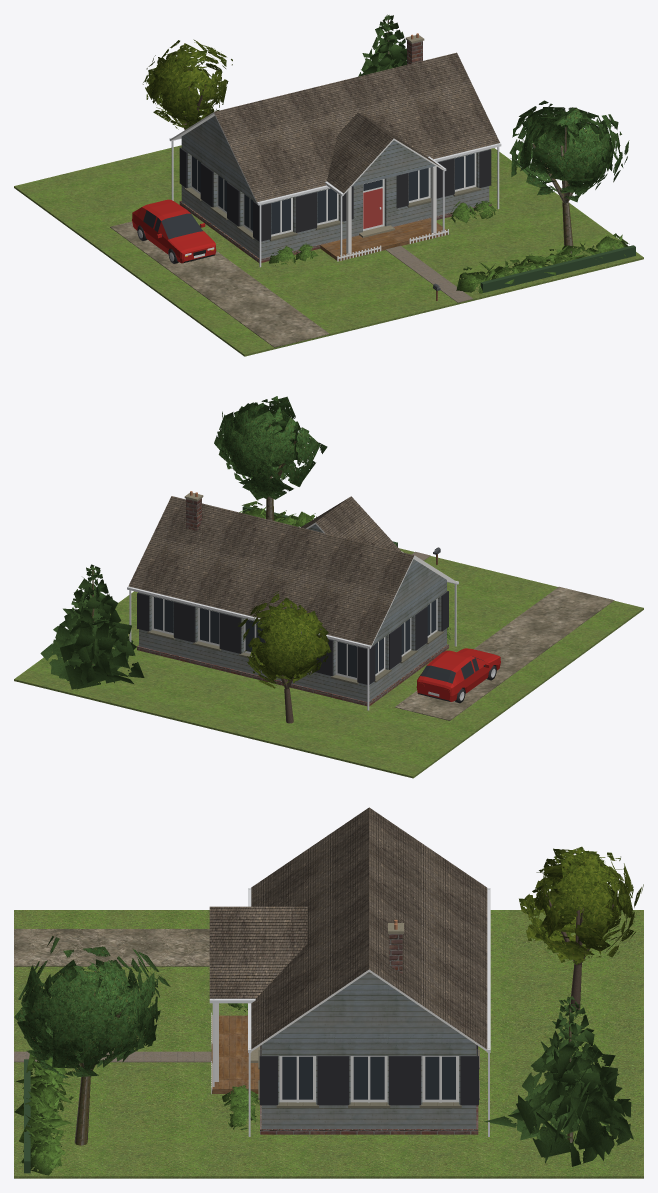
The model's file is house_bungalow.glb.
3 renders of one model, top to bottom at view 1: azimuth 30°, elevation 25°; view 2: azimuth 150°, elevation 25°; view 3: azimuth 270°, elevation 25°, orthographic. The views are drawn at different scales.
Parts seen in each view (by area): view 1: house_bungalow_body, house_bungalow_foliage; view 2: house_bungalow_body, house_bungalow_foliage; view 3: house_bungalow_body, house_bungalow_foliage.
Part boxes in pixels (<box>): house_bungalow_body: <box>14,18,643,356</box>; house_bungalow_foliage: <box>143,14,629,293</box>; house_bungalow_body: <box>14,424,643,778</box>; house_bungalow_foliage: <box>40,396,450,689</box>; house_bungalow_body: <box>14,807,643,1178</box>; house_bungalow_foliage: <box>14,846,643,1175</box>.
Size of the model in its own units: 0.94 by 0.341 by 0.94.
28 materials, 16 textured.
